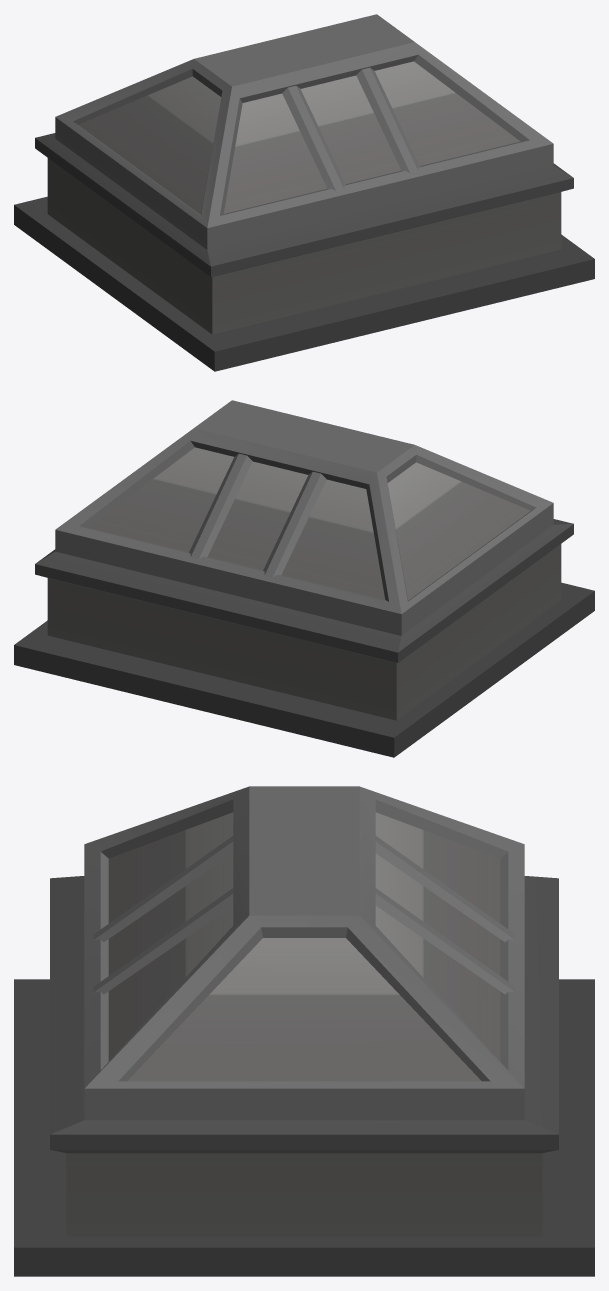
Rendered from RoofLights_4_B.fbx.
3 views of the same model, one above another, from view 1: azimuth 30°, elevation 25°; view 2: azimuth 150°, elevation 25°; view 3: azimuth 270°, elevation 25° (orthographic). The views are drawn at different scales.
Parts seen in each view (by area): view 1: RoofLights_4_B; view 2: RoofLights_4_B; view 3: RoofLights_4_B.
Boxes of the visible parts, bbox=[...] form: RoofLights_4_B: bbox=[14, 14, 594, 371]; RoofLights_4_B: bbox=[14, 400, 594, 757]; RoofLights_4_B: bbox=[14, 786, 594, 1276].
Size of the model in its own units: 216 by 109 by 198.
